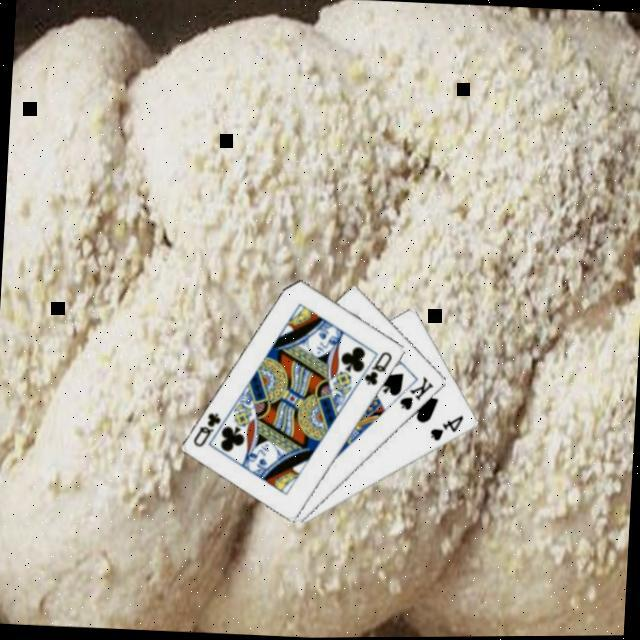4S: (426, 409, 466, 444)
KS: (396, 371, 436, 413)
QC: (188, 407, 224, 449), (360, 346, 394, 388)
